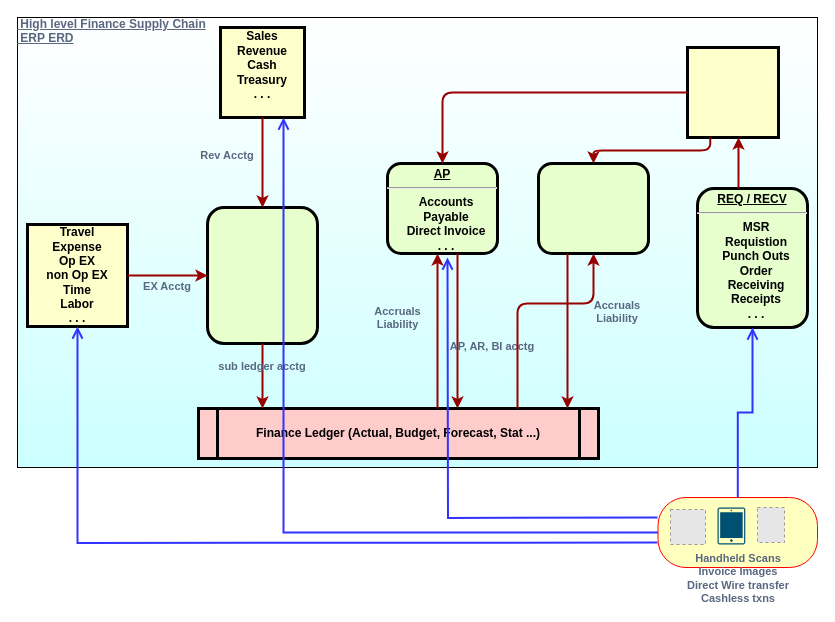
Some shapes in this 835 by 622 pixel diagram are drawn without their labels. Grey dashed boxes stand in for pictures. Each missing label, with the centre of its shape:
Accounting Payable Receivable Expense Accrual Assets Revenue . . .: the point at 262,275
AR Accounts Receivables Billing . . .: the point at 593,208
Purchase PO ePro Service PO . . .: the point at 733,92
